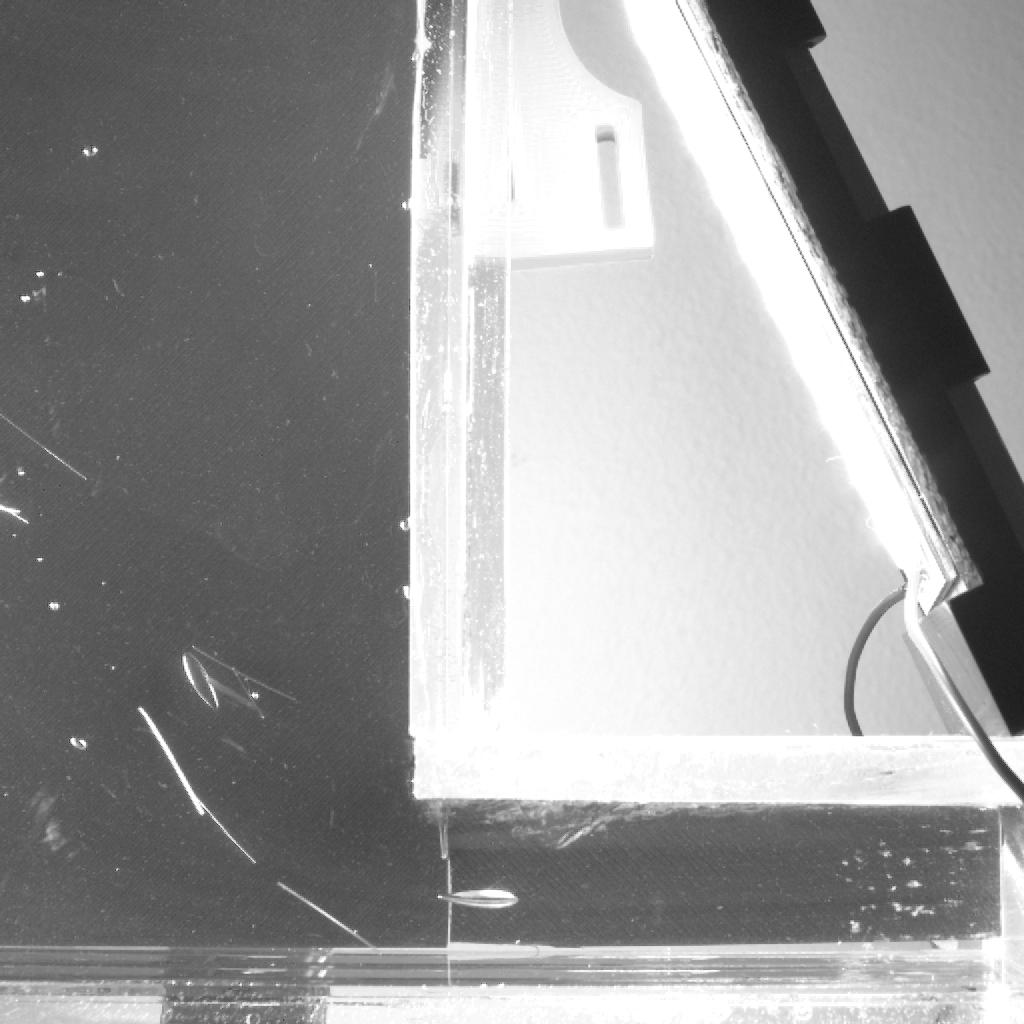Fiber: (274, 876, 377, 953), (138, 706, 210, 816), (0, 405, 89, 486), (187, 647, 301, 703), (186, 784, 256, 867), (228, 662, 264, 724), (1, 502, 35, 530), (0, 505, 25, 513)
